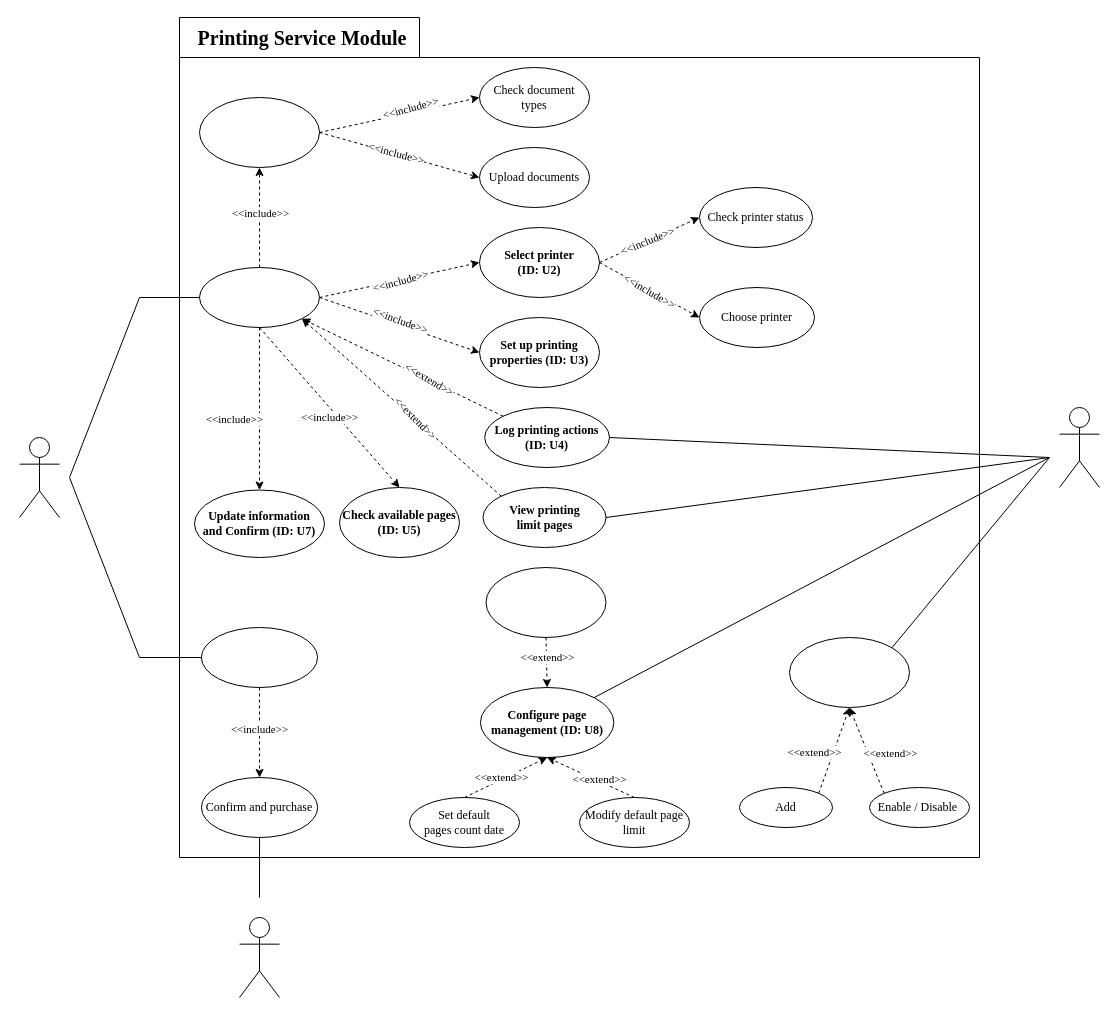
The diagram is 1117 pixels wide and 1036 high, and some of its shapes have lost their labels. Here are the shapes that lost their labels. From the top down, the box of each, then its label:
(198, 96, 320, 168): Select document (ID: U1)
(198, 266, 320, 328): Print documents
(1058, 406, 1100, 488): SPSO
(18, 436, 60, 518): Students
(485, 566, 606, 638): Modify permitted file types
(200, 626, 318, 688): Purchase additional pages (ID: U6)
(788, 636, 910, 708): Configure printer setting (ID: U9)
(238, 916, 280, 998): BKPay
